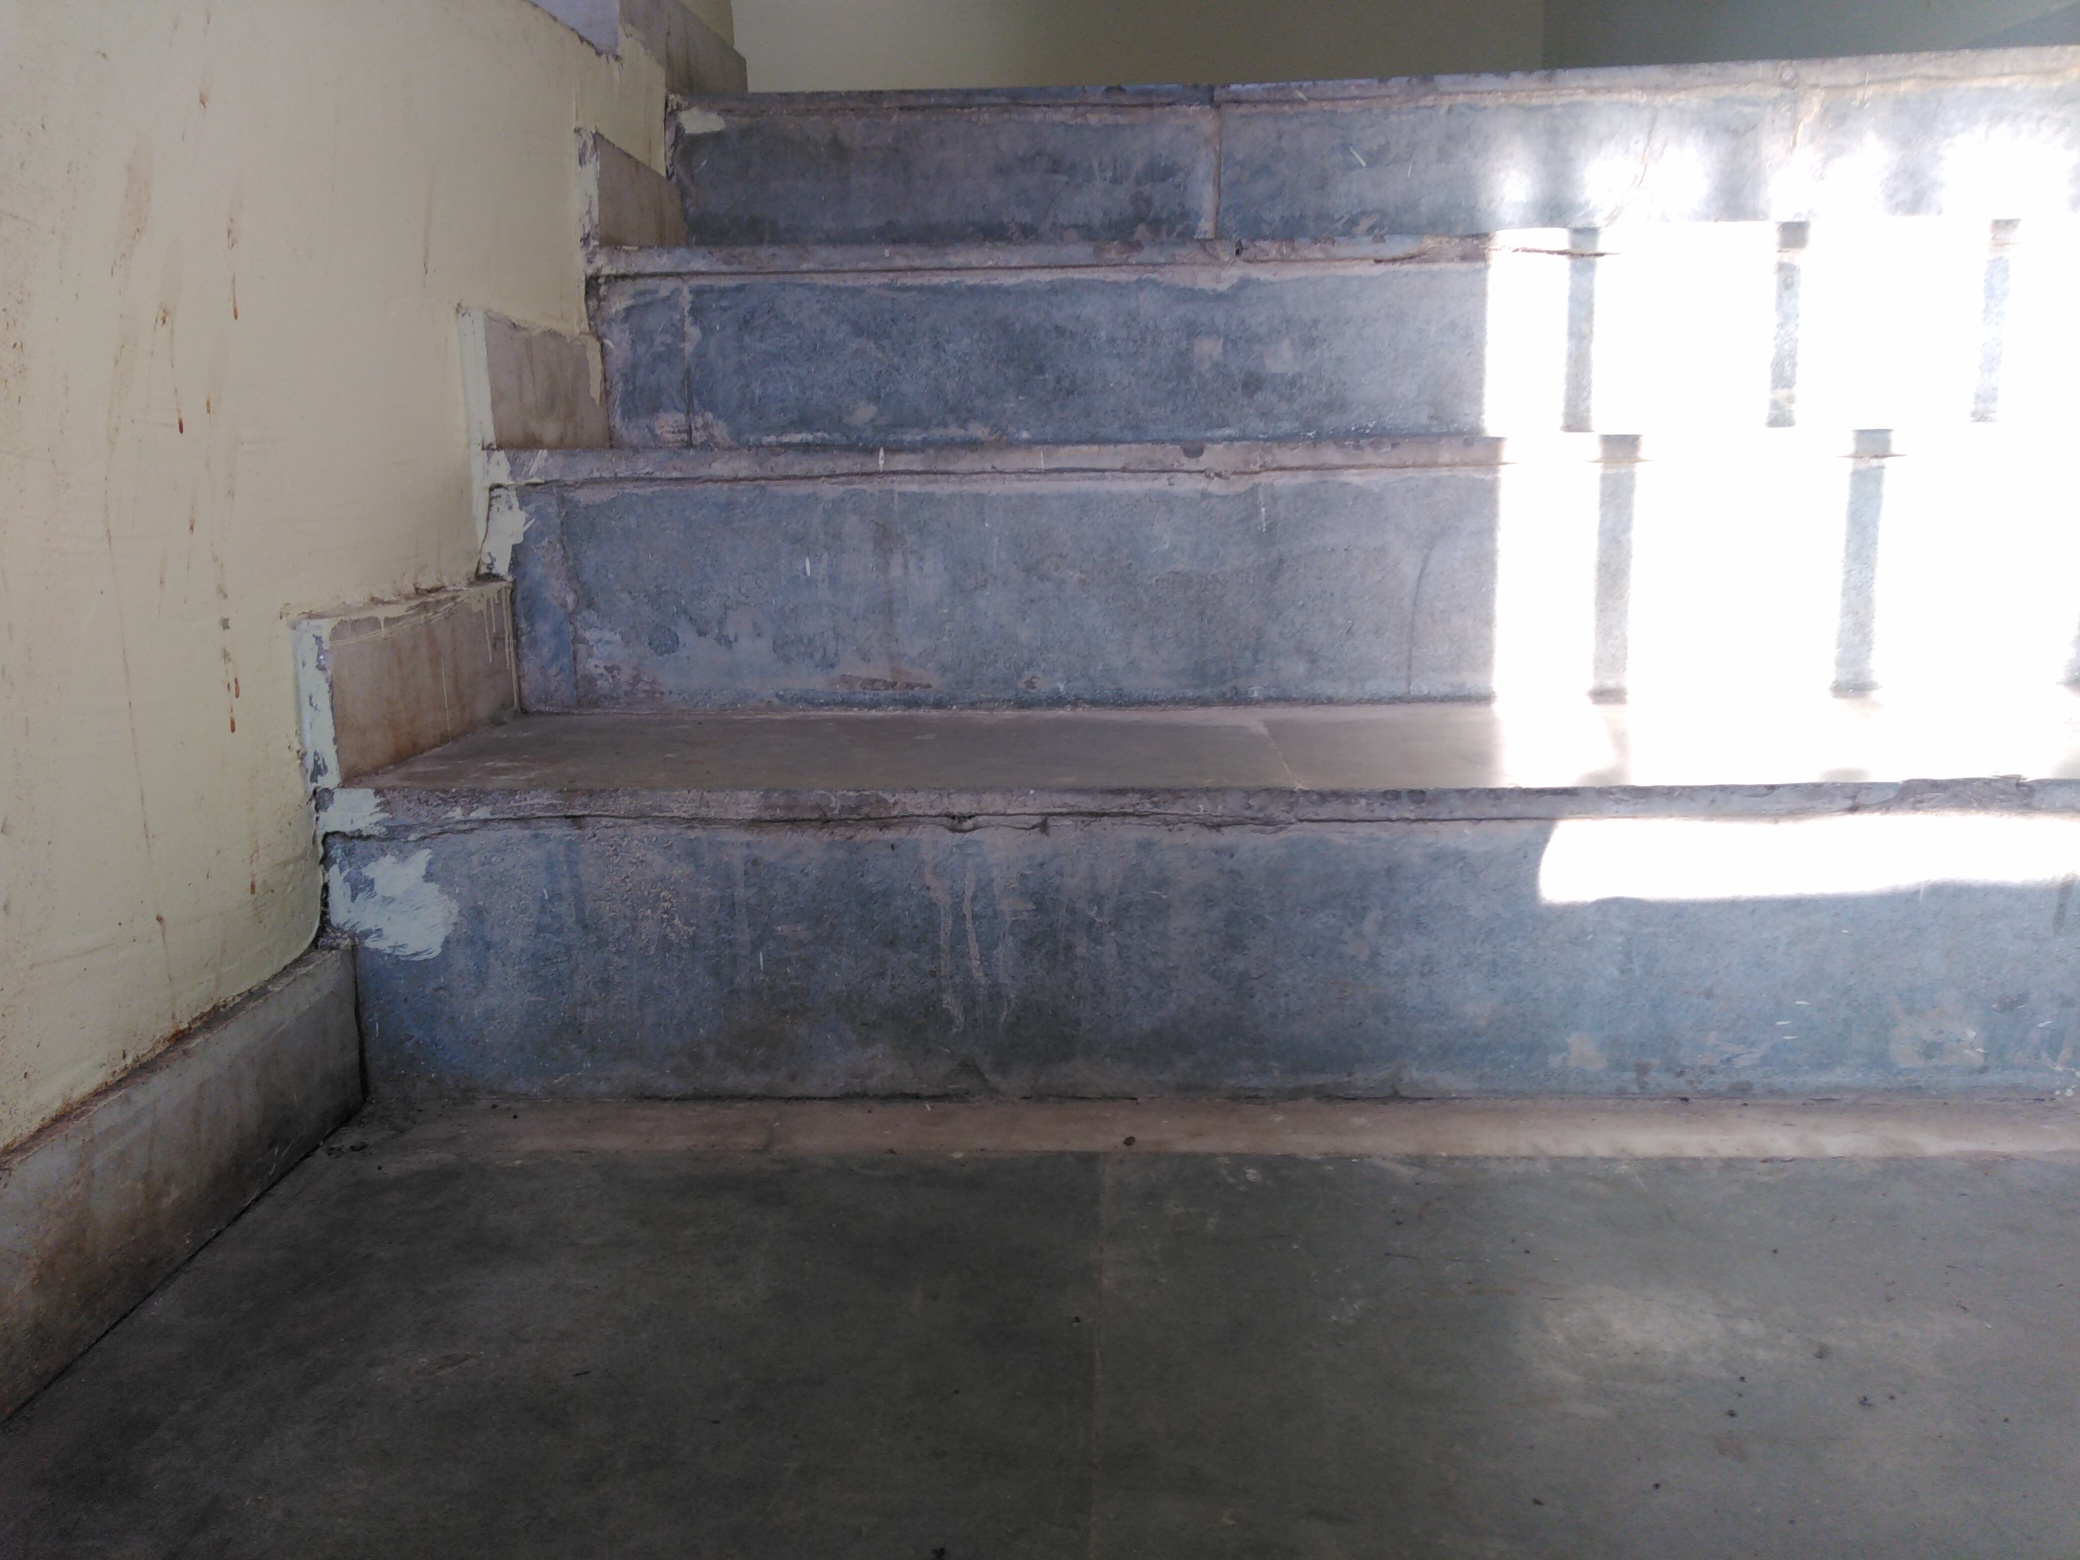stairs_up: (347, 87, 2080, 1108)
